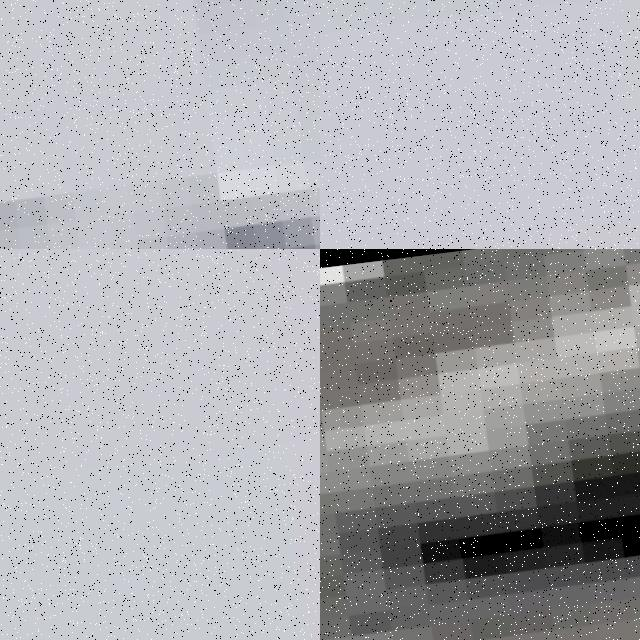0: (0, 0, 320, 249)
drone: (320, 249, 640, 640)
